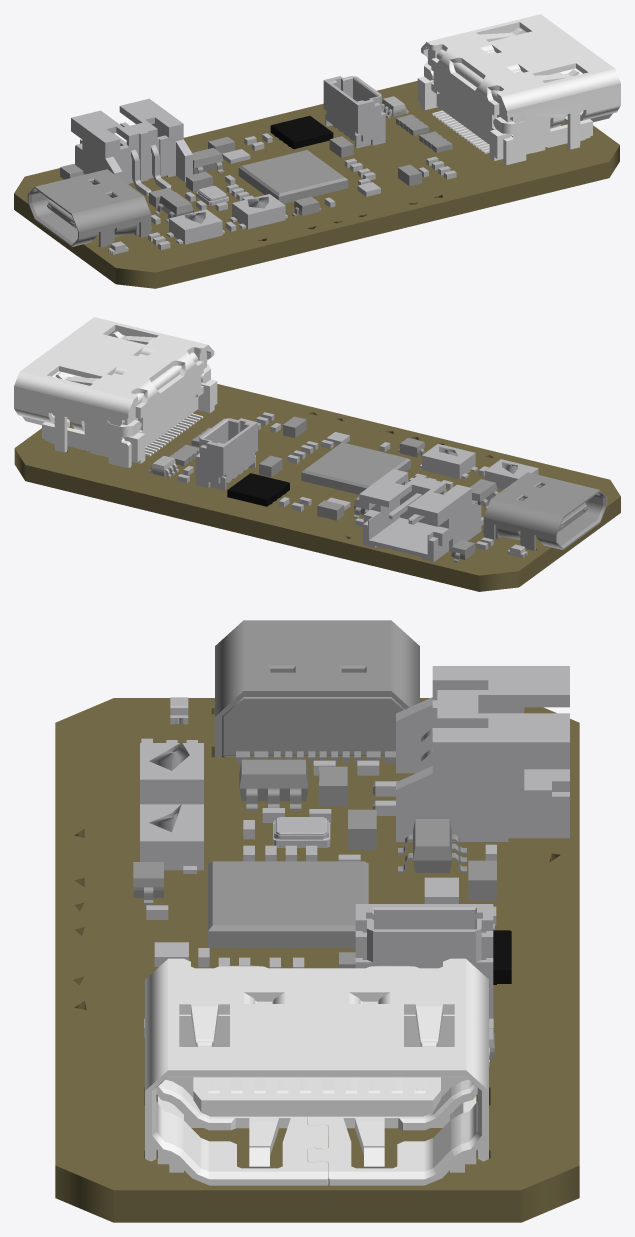
The model's file is ada-5710.glb.
3 views of the same model, one above another, from view 1: azimuth 30°, elevation 25°; view 2: azimuth 150°, elevation 25°; view 3: azimuth 270°, elevation 25° (orthographic). The views are drawn at different scales.
Visible parts, largest first — view 1: 0.16666666666666666_0.16666666666666666_0.08333333333333333_, 0.9166666666666666_0.9166666666666666_0.9166666666666666_0.8, 0.5833333333333334_0.5833333333333334_0.5833333333333334_0.8, 0.3333333333333333_0.3333333333333333_0.3333333333333333_0, 0_0_0_0, 0.5_0.5_0.5_0.85; view 2: 0.16666666666666666_0.16666666666666666_0.08333333333333333_, 0.9166666666666666_0.9166666666666666_0.9166666666666666_0.8, 0.5833333333333334_0.5833333333333334_0.5833333333333334_0.8, 0.3333333333333333_0.3333333333333333_0.3333333333333333_0, 0_0_0_0, 0.5_0.5_0.5_0.85; view 3: 0.16666666666666666_0.16666666666666666_0.08333333333333333_, 0.9166666666666666_0.9166666666666666_0.9166666666666666_0.8, 0.5833333333333334_0.5833333333333334_0.5833333333333334_0.8, 0.3333333333333333_0.3333333333333333_0.3333333333333333_0, 0_0_0_0.
Boxes of the visible parts, box(x1,y1,x2,y2) form: 0.16666666666666666_0.16666666666666666_0.08333333333333333_: box(14, 81, 619, 288); 0.9166666666666666_0.9166666666666666_0.9166666666666666_0.8: box(417, 14, 620, 164); 0.5833333333333334_0.5833333333333334_0.5833333333333334_0.8: box(49, 76, 456, 254); 0.3333333333333333_0.3333333333333333_0.3333333333333333_0: box(27, 114, 452, 247); 0_0_0_0: box(270, 115, 333, 149); 0.5_0.5_0.5_0.85: box(382, 96, 408, 118); 0.16666666666666666_0.16666666666666666_0.08333333333333333_: box(14, 384, 620, 591); 0.9166666666666666_0.9166666666666666_0.9166666666666666_0.8: box(14, 317, 217, 467); 0.5833333333333334_0.5833333333333334_0.5833333333333334_0.8: box(177, 412, 585, 561); 0.3333333333333333_0.3333333333333333_0.3333333333333333_0: box(169, 416, 607, 562); 0_0_0_0: box(227, 473, 289, 506); 0.5_0.5_0.5_0.85: box(149, 456, 178, 478); 0.16666666666666666_0.16666666666666666_0.08333333333333333_: box(55, 698, 579, 1222); 0.9166666666666666_0.9166666666666666_0.9166666666666666_0.8: box(145, 958, 488, 1185); 0.5833333333333334_0.5833333333333334_0.5833333333333334_0.8: box(140, 666, 569, 1037); 0.3333333333333333_0.3333333333333333_0.3333333333333333_0: box(133, 620, 496, 968); 0_0_0_0: box(493, 930, 511, 984).
Bounding box in the file's own units: 5.29 × 0.8386 × 2.29.
